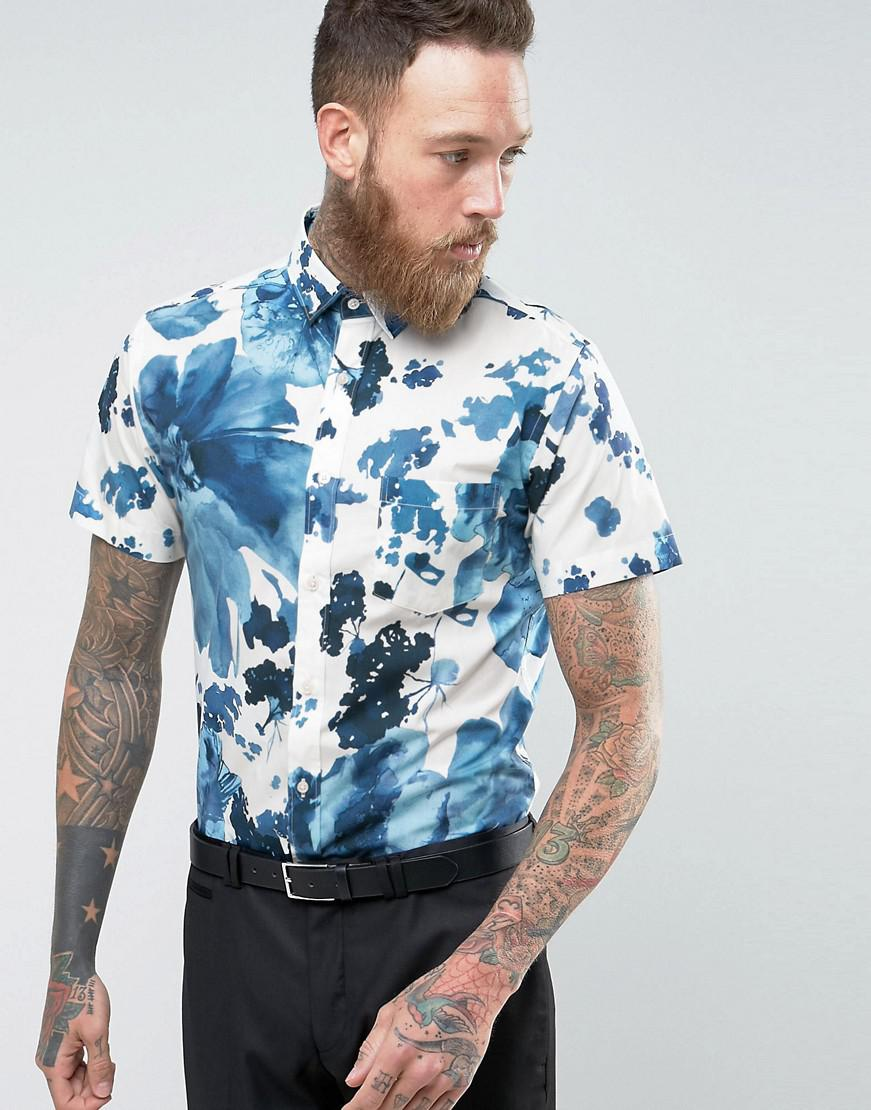teeshirt: (64, 234, 695, 871)
